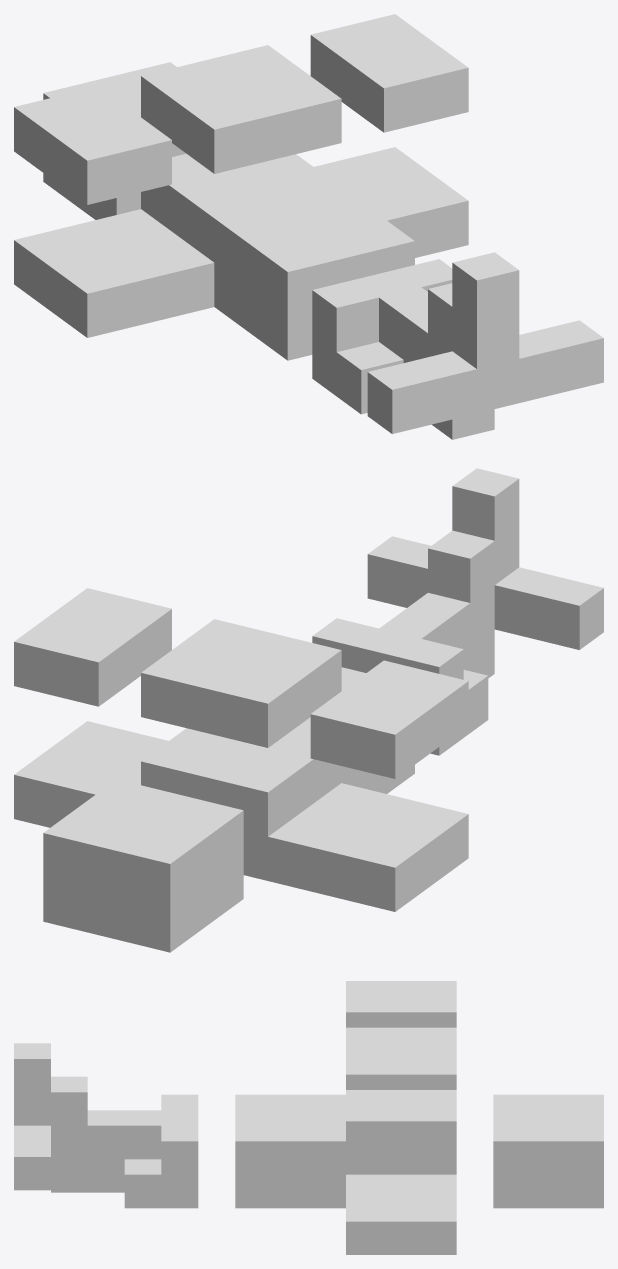
The model's file is AriplaneColored.obj.
The picture shows the model from 3 angles, top to bottom: view 1: azimuth 30°, elevation 25°; view 2: azimuth 150°, elevation 25°; view 3: azimuth 270°, elevation 25°; orthographic projection. The views are drawn at different scales.
Bounding box in the file's own units: 0.9 × 0.4 × 1.6.
Materials: 1 (1 with a texture image).
